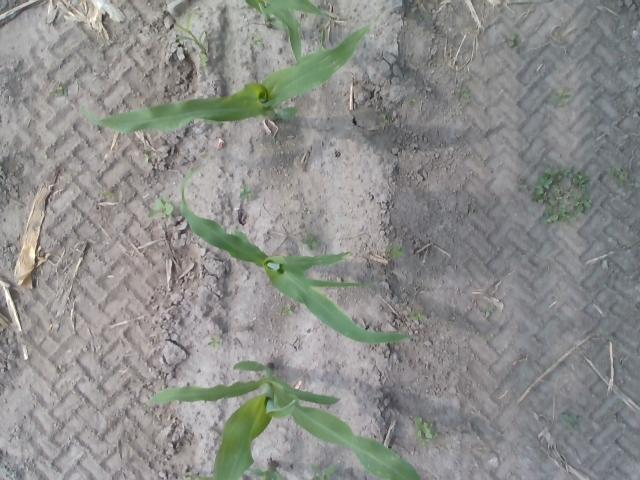Maize: (179, 170, 415, 344), (79, 7, 383, 135), (142, 359, 420, 480), (244, 0, 334, 63), (198, 461, 286, 480)
Weeds: (531, 165, 592, 228), (172, 13, 208, 66), (413, 416, 438, 446), (148, 200, 174, 218), (310, 463, 336, 480), (606, 166, 628, 186), (549, 89, 572, 107), (560, 414, 584, 430), (384, 244, 406, 260), (301, 234, 321, 251), (50, 81, 68, 97), (239, 183, 252, 201), (457, 85, 471, 99), (180, 469, 196, 480), (508, 33, 521, 46), (280, 304, 294, 316), (408, 312, 427, 320), (208, 335, 219, 347), (101, 189, 114, 198), (253, 37, 264, 47), (486, 305, 494, 318), (378, 115, 388, 123), (144, 152, 150, 162), (202, 152, 210, 159), (519, 184, 528, 190), (471, 204, 476, 213)
